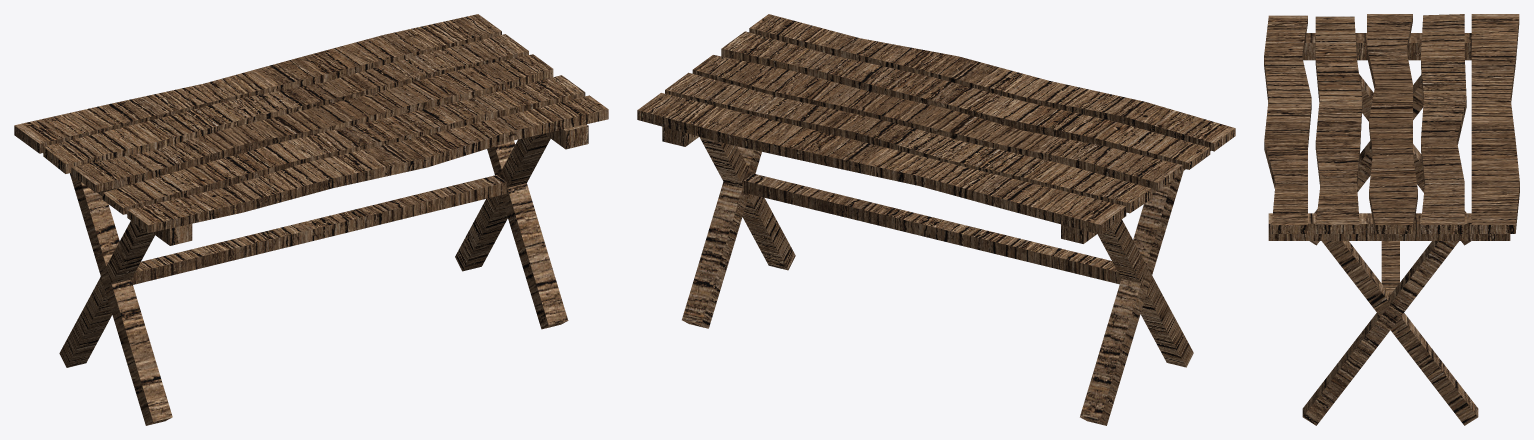
Rendered from Table.fbx.
The picture shows the model from 3 angles, left to right: view 1: azimuth 30°, elevation 25°; view 2: azimuth 150°, elevation 25°; view 3: azimuth 270°, elevation 25°; orthographic projection. The views are drawn at different scales.
Visible parts, largest first — view 1: Table; view 2: Table; view 3: Table.
Part boxes in pixels (x1=…): Table: x1=14, y1=14, x2=608, y2=425; Table: x1=637, y1=14, x2=1235, y2=425; Table: x1=1264, y1=14, x2=1519, y2=425.
Size of the model in its own units: 598 by 280 by 307.
